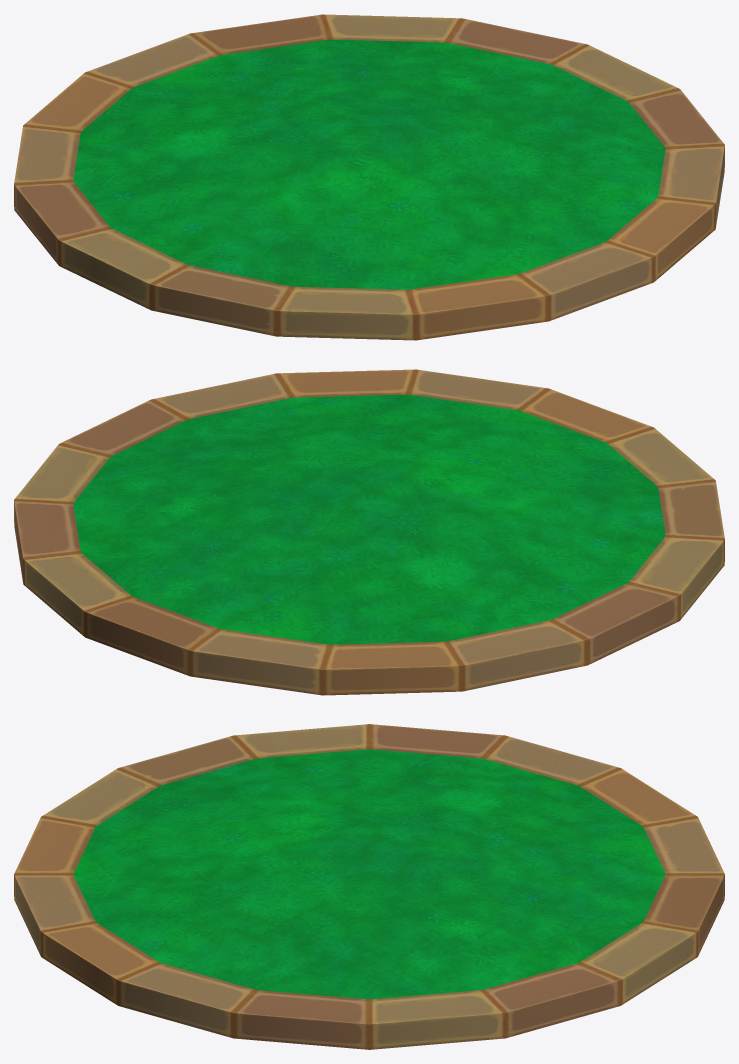
The model's file is Plant01_d06.FBX.
3 views of the same model, one above another, from view 1: azimuth 30°, elevation 25°; view 2: azimuth 150°, elevation 25°; view 3: azimuth 270°, elevation 25° (orthographic).
Parts seen in each view (by area): view 1: Plant01_d06; view 2: Plant01_d06; view 3: Plant01_d06.
Part boxes in pixels (x1,y1,x2,y2): Plant01_d06: [14, 14, 724, 340]; Plant01_d06: [14, 369, 724, 695]; Plant01_d06: [14, 724, 724, 1049].
Bounding box in the file's own units: 679 × 63.53 × 679.
2 materials, 2 textured.
